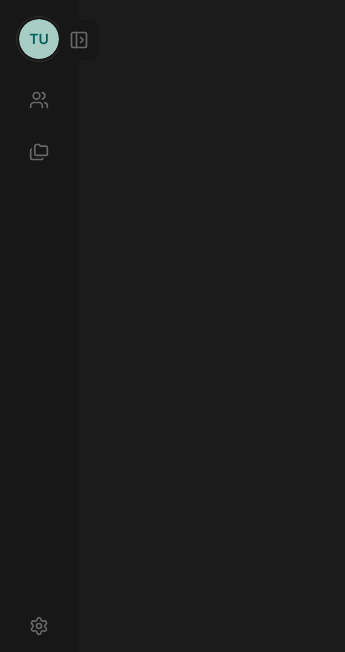
it: Sidebar › renders account name and main items
Click the icon with class "lucide-panel-left-open": (79, 40) 69,30 -> 89,50
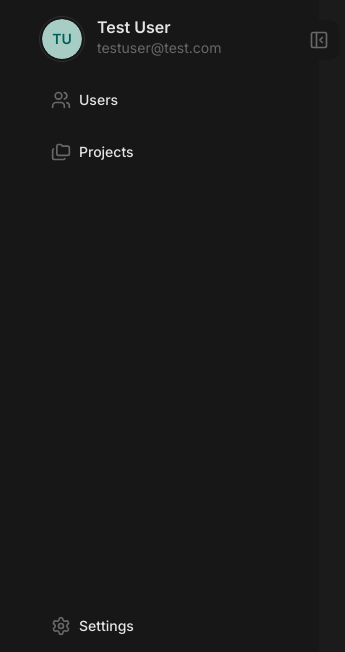
Result: the text "Test User" is shown at 97,17 -> 171,37
Result: the text "Users" is shown at 79,93 -> 118,107
Result: the text "Projects" is shown at 79,145 -> 134,159
